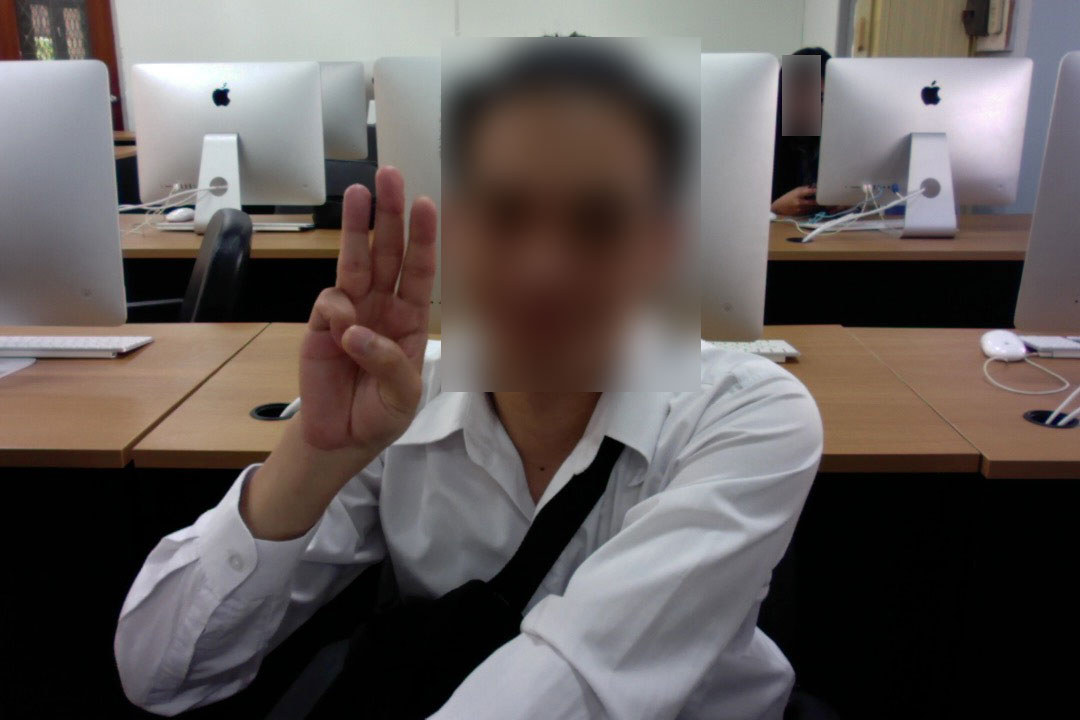wor: (283, 150, 455, 469)
